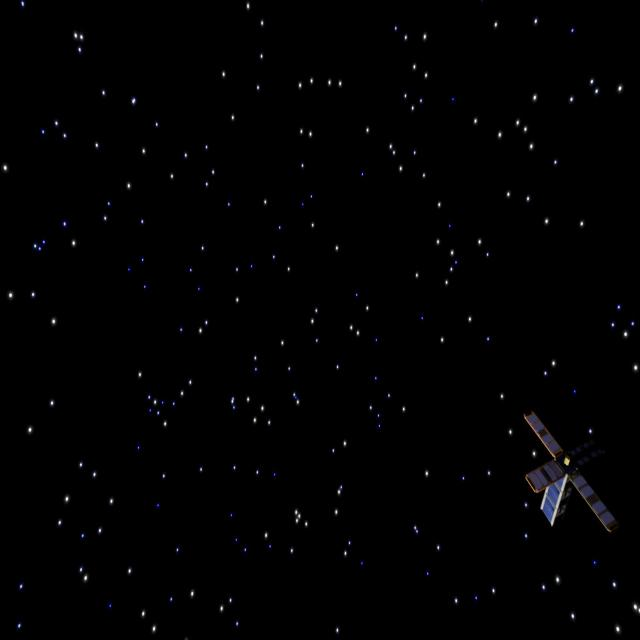satellite: (506, 413, 620, 533)
